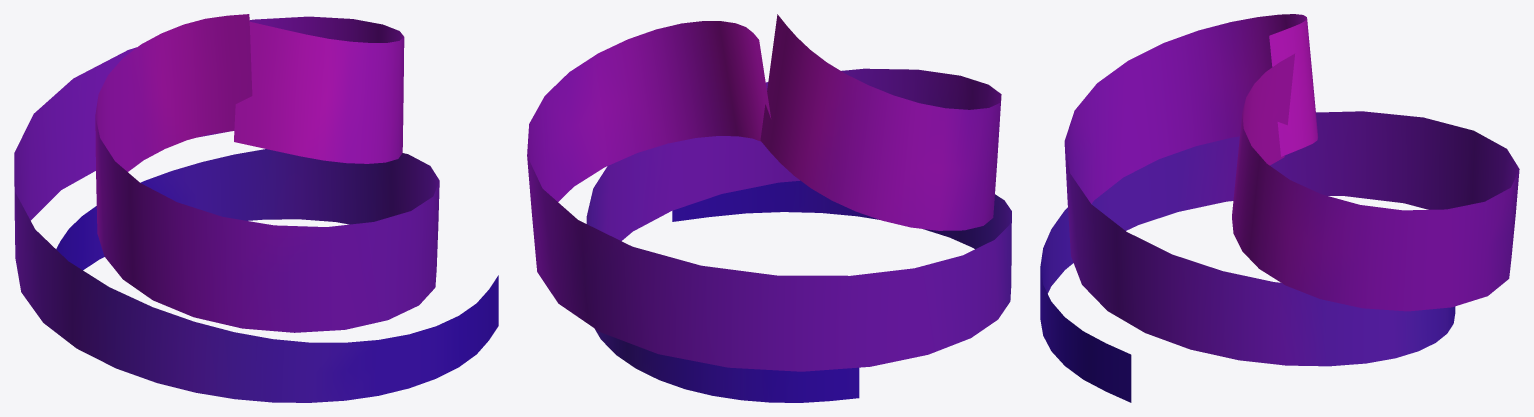
Rendered from Swirls_02.fbx.
3 views of the same model, side by side, from view 1: azimuth 30°, elevation 25°; view 2: azimuth 150°, elevation 25°; view 3: azimuth 270°, elevation 25° (orthographic). The views are drawn at different scales.
Parts seen in each view (by area): view 1: pPipe2, pPipe1; view 2: pPipe1, pPipe2; view 3: pPipe1, pPipe2.
Boxes of the visible parts, box(x1,y1,x2,y2) form: pPipe2: box(56, 14, 439, 332); pPipe1: box(14, 16, 498, 402); pPipe1: box(527, 21, 1011, 371); pPipe2: box(586, 14, 1001, 402); pPipe1: box(1040, 53, 1519, 402); pPipe2: box(1064, 14, 1455, 366).
Size of the model in its own units: 2.64 by 2.01 by 3.04.
